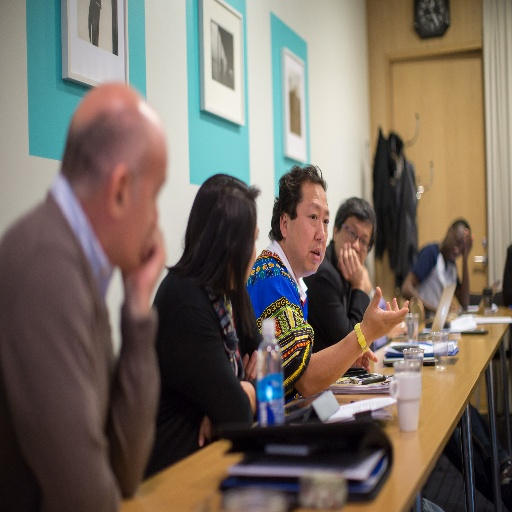hand: (119, 222, 167, 302), (362, 295, 416, 352), (336, 239, 363, 286), (240, 346, 267, 379), (352, 348, 379, 376), (197, 415, 216, 448), (387, 319, 408, 342), (462, 228, 475, 259)
